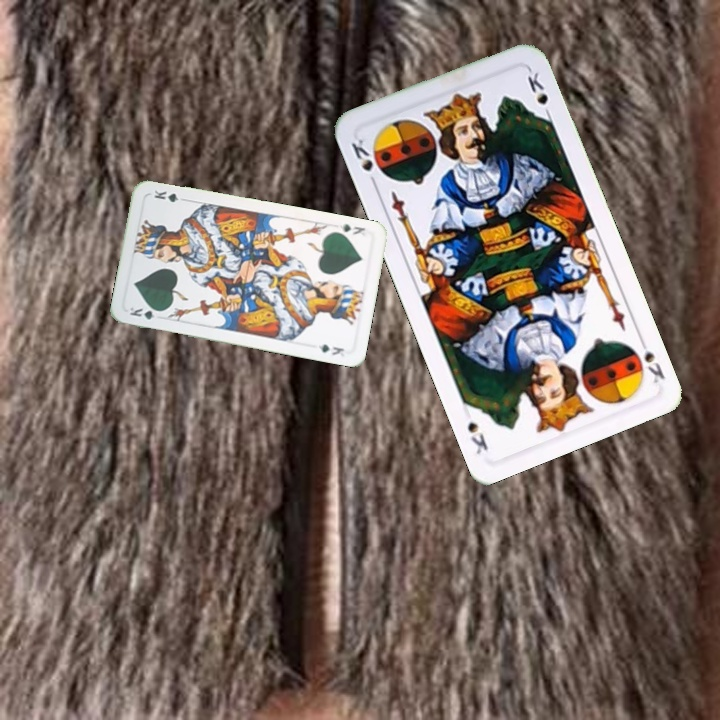GK: (126, 303, 165, 322), (336, 219, 368, 239)
SK: (347, 134, 380, 190), (634, 333, 668, 387)
